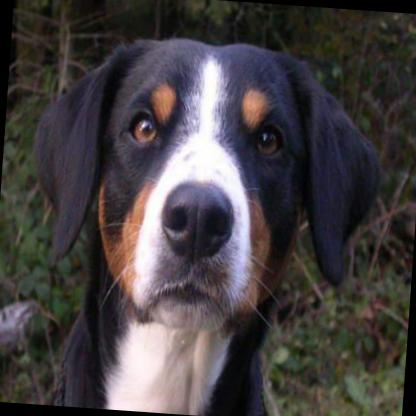EntleBucher: (15, 27, 390, 416)
